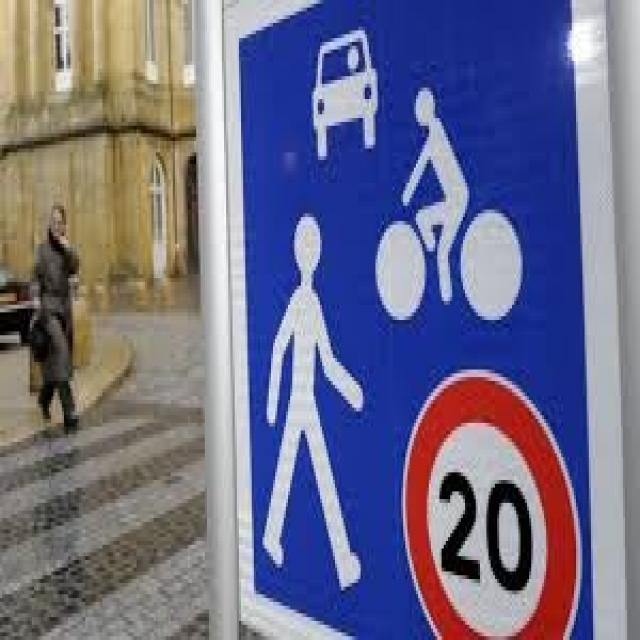speed_limit_20: (397, 375, 583, 640)
